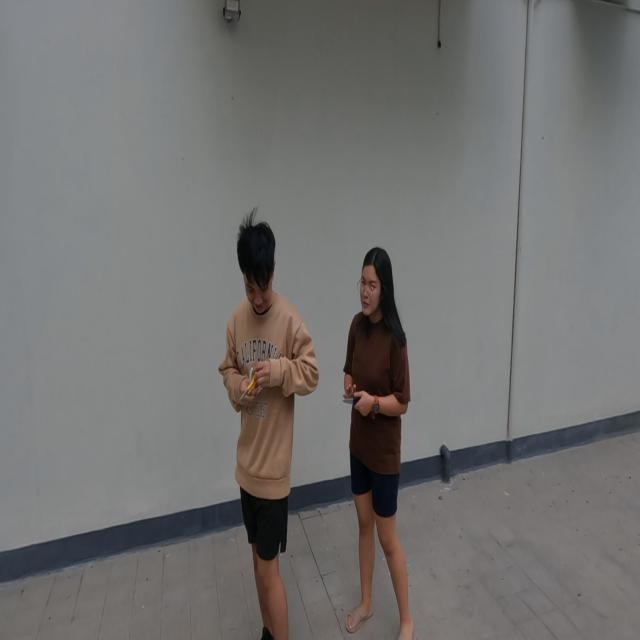scissor: (233, 373, 261, 409)
